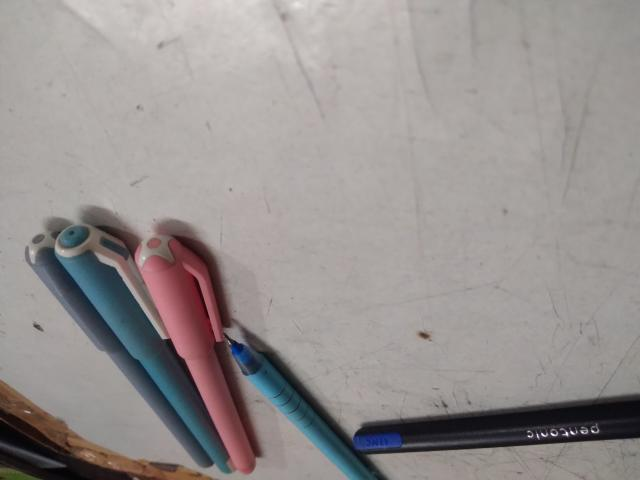PEN: (381, 7, 620, 263), (267, 2, 419, 169), (7, 26, 288, 94)
